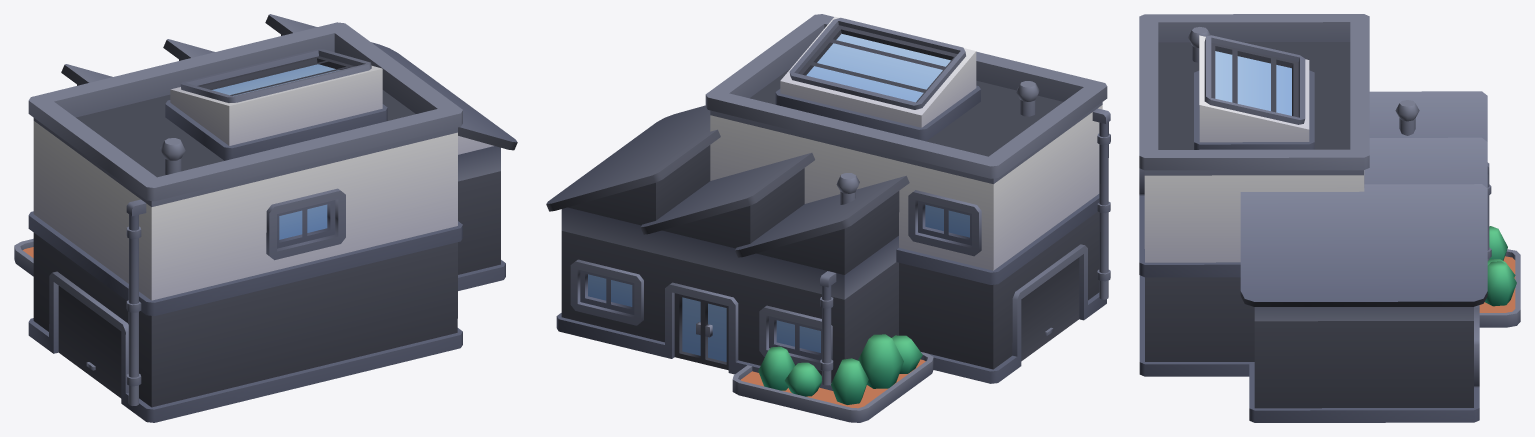
The model's file is building-t_lev1.glb.
3 renders of one model, left to right at view 1: azimuth 30°, elevation 25°; view 2: azimuth 150°, elevation 25°; view 3: azimuth 270°, elevation 25°, orthographic. The views are drawn at different scales.
Visible parts, largest first — view 1: building-t_lev1; view 2: building-t_lev1; view 3: building-t_lev1.
Boxes of the visible parts, bbox=[...] form: building-t_lev1: bbox=[14, 14, 517, 422]; building-t_lev1: bbox=[546, 14, 1110, 422]; building-t_lev1: bbox=[1139, 14, 1520, 422].
Size of the model in its own units: 1.72 by 1.01 by 1.39.
1 material, 1 textured.
